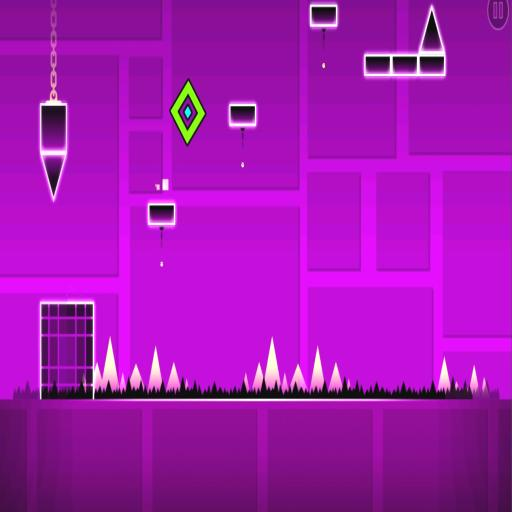block: (38, 296, 98, 403), (362, 47, 453, 78), (38, 100, 72, 157), (226, 96, 260, 130), (146, 198, 177, 235), (308, 3, 340, 29)
player: (170, 79, 206, 145)
spike: (420, 7, 444, 53), (43, 155, 64, 198), (103, 338, 118, 391), (265, 339, 280, 388), (310, 348, 324, 391), (149, 348, 162, 389), (291, 364, 307, 391), (438, 359, 450, 390), (167, 364, 180, 392), (329, 363, 341, 391), (131, 364, 144, 389), (253, 364, 263, 390), (470, 366, 479, 394), (94, 363, 102, 390), (282, 374, 288, 392), (120, 374, 126, 391), (244, 373, 249, 391), (455, 382, 459, 389), (185, 380, 188, 389), (348, 379, 350, 389)
